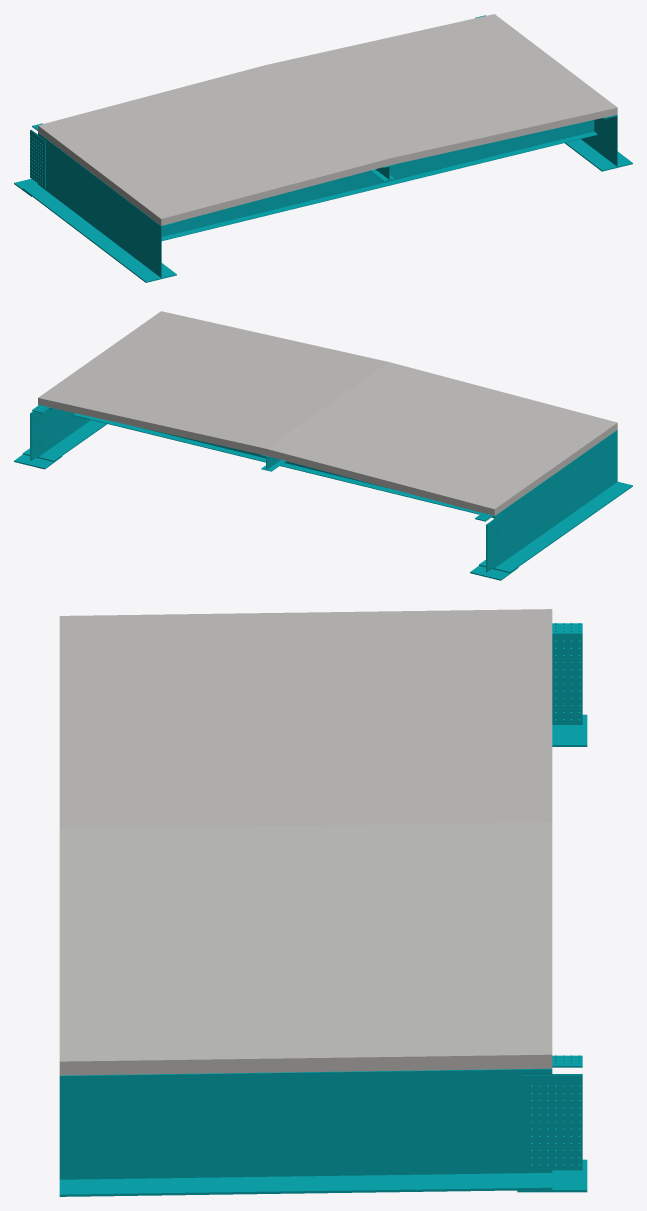
The model's file is DECK_NN02.glb.
3 renders of one model, top to bottom at view 1: azimuth 30°, elevation 25°; view 2: azimuth 150°, elevation 25°; view 3: azimuth 270°, elevation 25°, orthographic. The views are drawn at different scales.
Parts seen in each view (by area): view 1: NN02_Slab_11, NN02_G_W_0, NN02_FB_web_7, NN02_FB_bf_10, NN02_G_E_1, NN02_SpliceW_13; view 2: NN02_Slab_11, NN02_G_W_0, NN02_G_E_1, NN02_FB_bf_6, NN02_SpliceW_13, NN02_SpliceW_21, NN02_FB_web_3; view 3: NN02_Slab_11, NN02_G_E_1, NN02_SpliceW_22, NN02_SpliceW_14, NN02_SpliceB_23, NN02_SpliceB_15.
Part boxes in pixels (<box>): NN02_Slab_11: <box>38,14,617,225</box>; NN02_G_W_0: <box>22,132,176,282</box>; NN02_FB_web_7: <box>161,120,594,236</box>; NN02_FB_bf_10: <box>161,131,597,240</box>; NN02_G_E_1: <box>565,114,632,171</box>; NN02_SpliceW_13: <box>30,130,45,188</box>; NN02_Slab_11: <box>38,311,617,516</box>; NN02_G_W_0: <box>479,430,632,573</box>; NN02_G_E_1: <box>22,405,106,461</box>; NN02_FB_bf_6: <box>73,413,493,517</box>; NN02_SpliceW_13: <box>487,514,502,572</box>; NN02_SpliceW_21: <box>31,411,46,460</box>; NN02_FB_web_3: <box>143,428,386,487</box>; NN02_Slab_11: <box>59,609,552,1075</box>; NN02_G_E_1: <box>59,1068,552,1196</box>; NN02_SpliceW_22: <box>522,1075,582,1170</box>; NN02_SpliceW_14: <box>552,635,582,724</box>; NN02_SpliceB_23: <box>517,1159,587,1192</box>; NN02_SpliceB_15: <box>552,714,587,746</box>.
Size of the model in its own units: 18.26 by 2.45 by 8.57.
